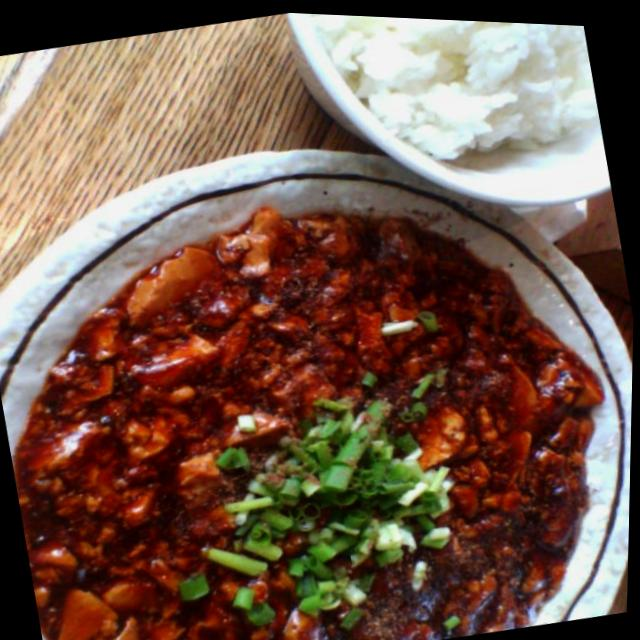米饭主食: (289, 10, 617, 248)
豆腐料理: (0, 69, 639, 640)
